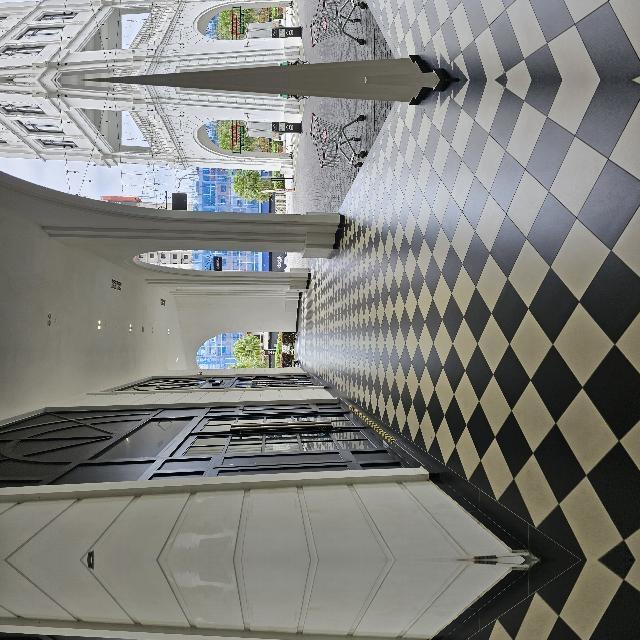door: (88, 258, 152, 467)
